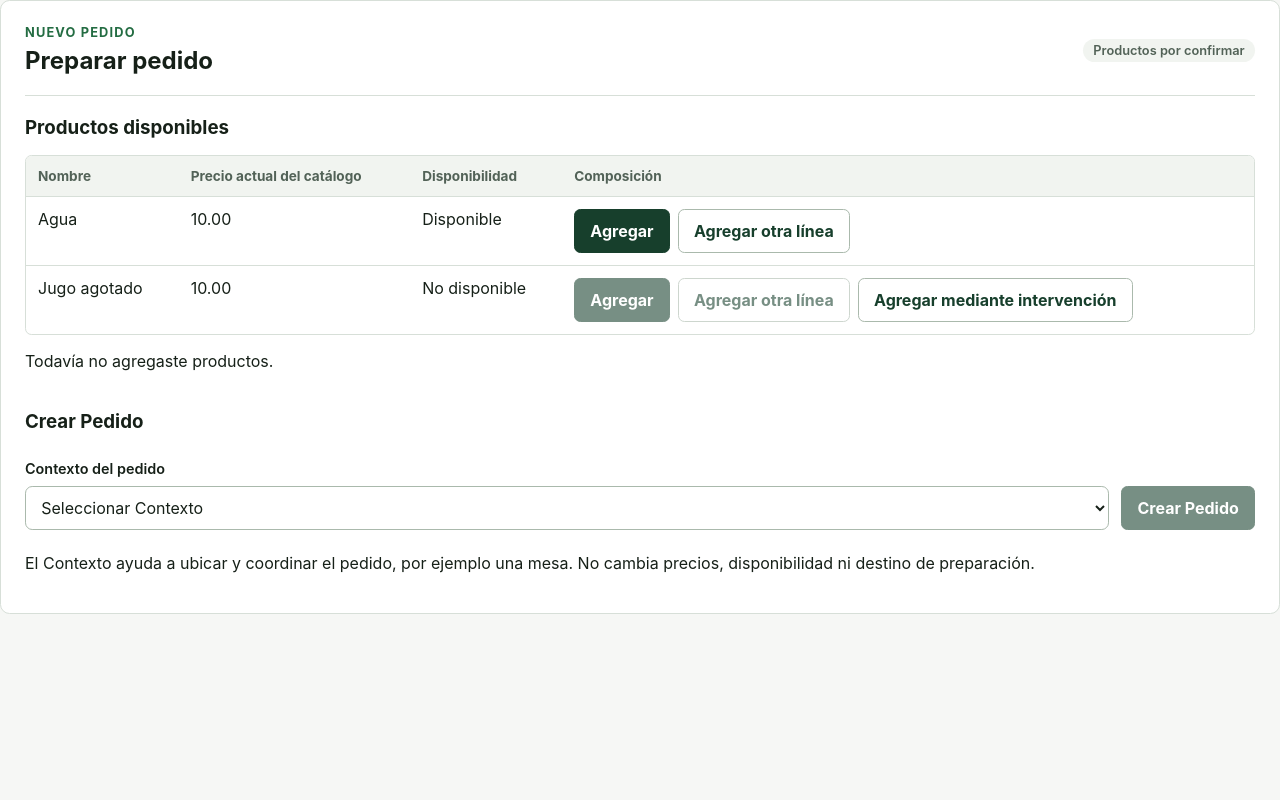
OrderWorkflow - Composición y Primera Confirmación › sends exceptional intent per line and keeps it after authority loss
Select "Mesa 7" in the dropdown labelled "Contexto del pedido" at (567, 508), box [25, 486, 1109, 530]
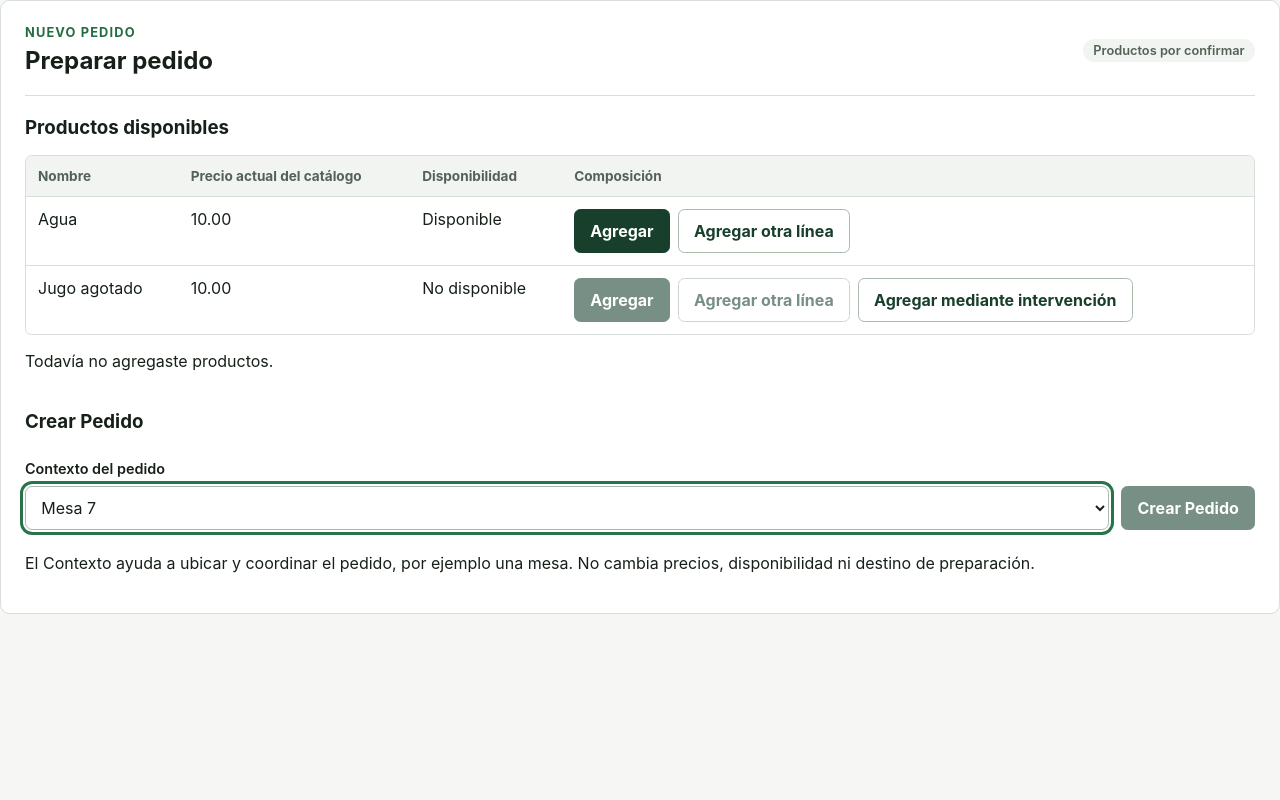
Click the button with aria-label "Agregar Agua a Preparar pedido".
click(622, 231)  # box [574, 209, 670, 253]
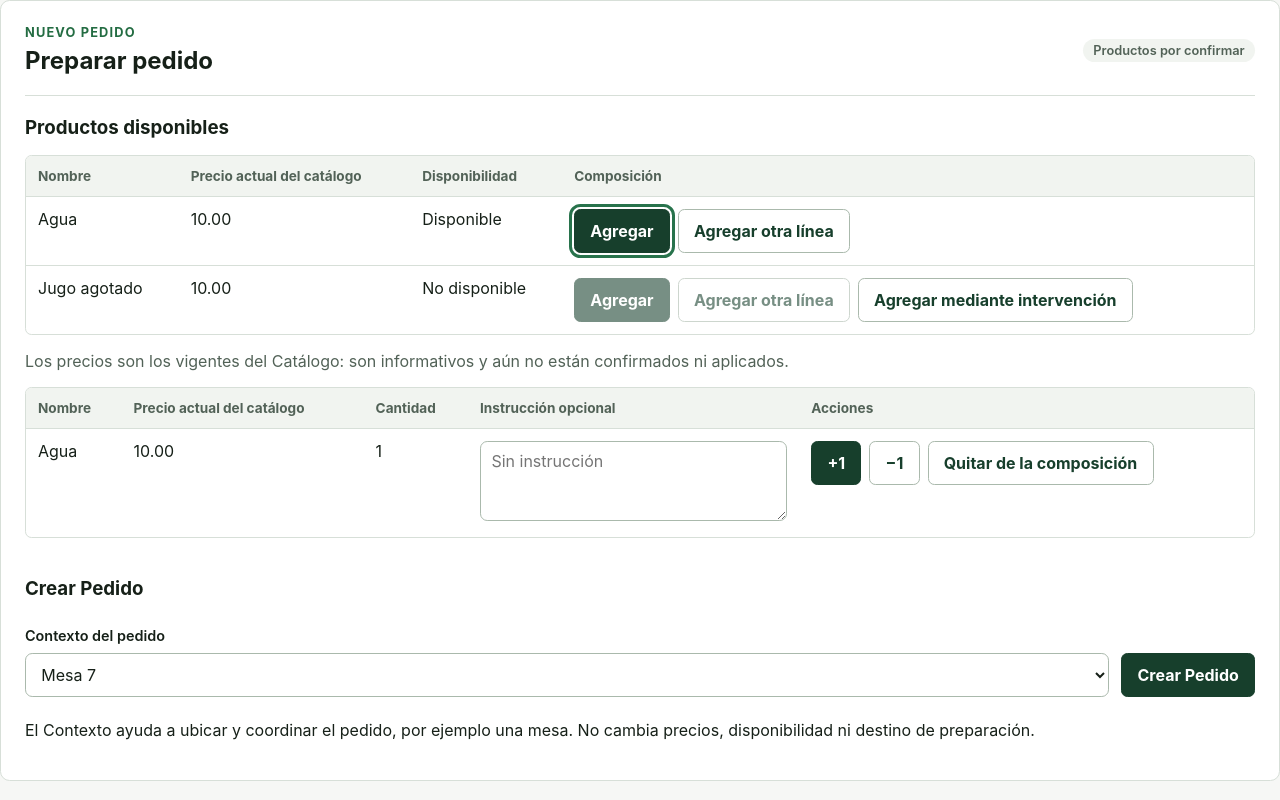
Click the button with aria-label "Agregar Jugo agotado mediante intervención a Preparar pedido".
click(995, 300)  # box [858, 278, 1133, 322]
(page scrolled)
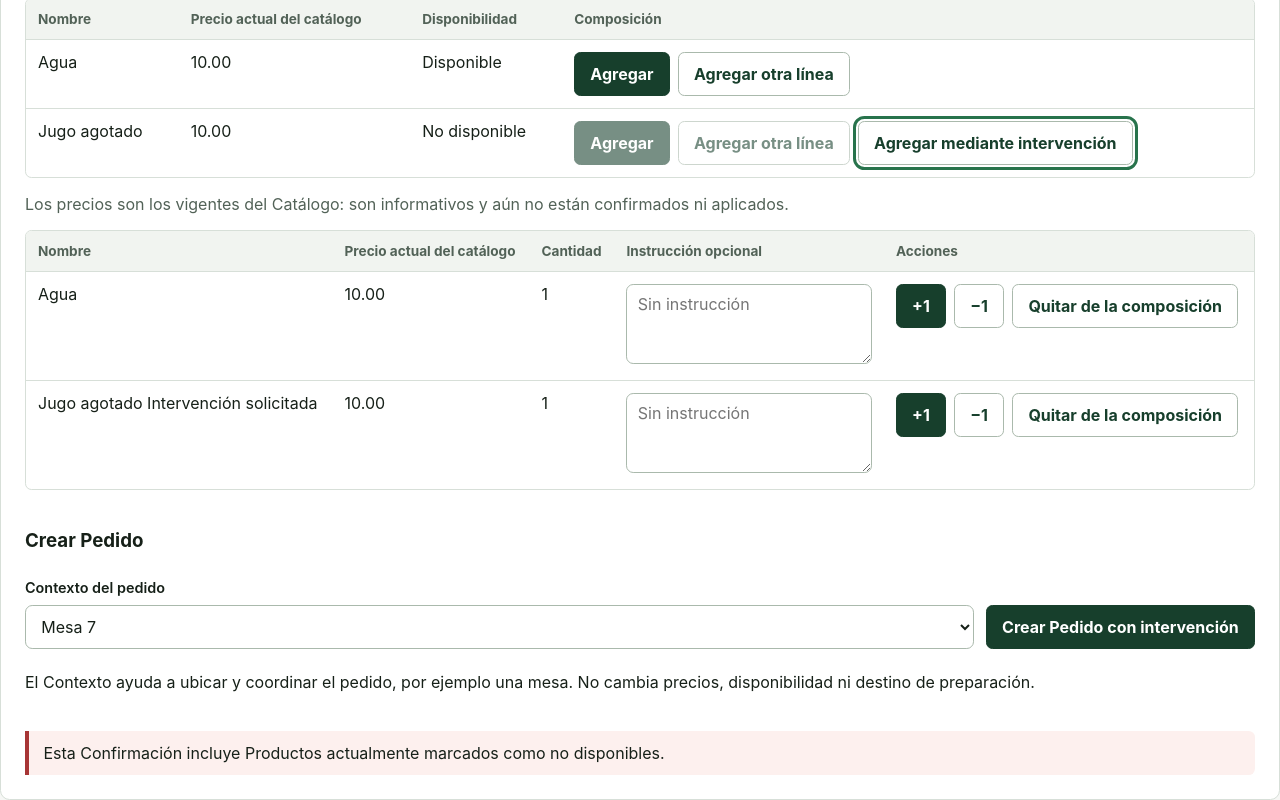
Click the button "Crear Pedido con intervención".
click(1120, 627)  # box [986, 605, 1255, 649]
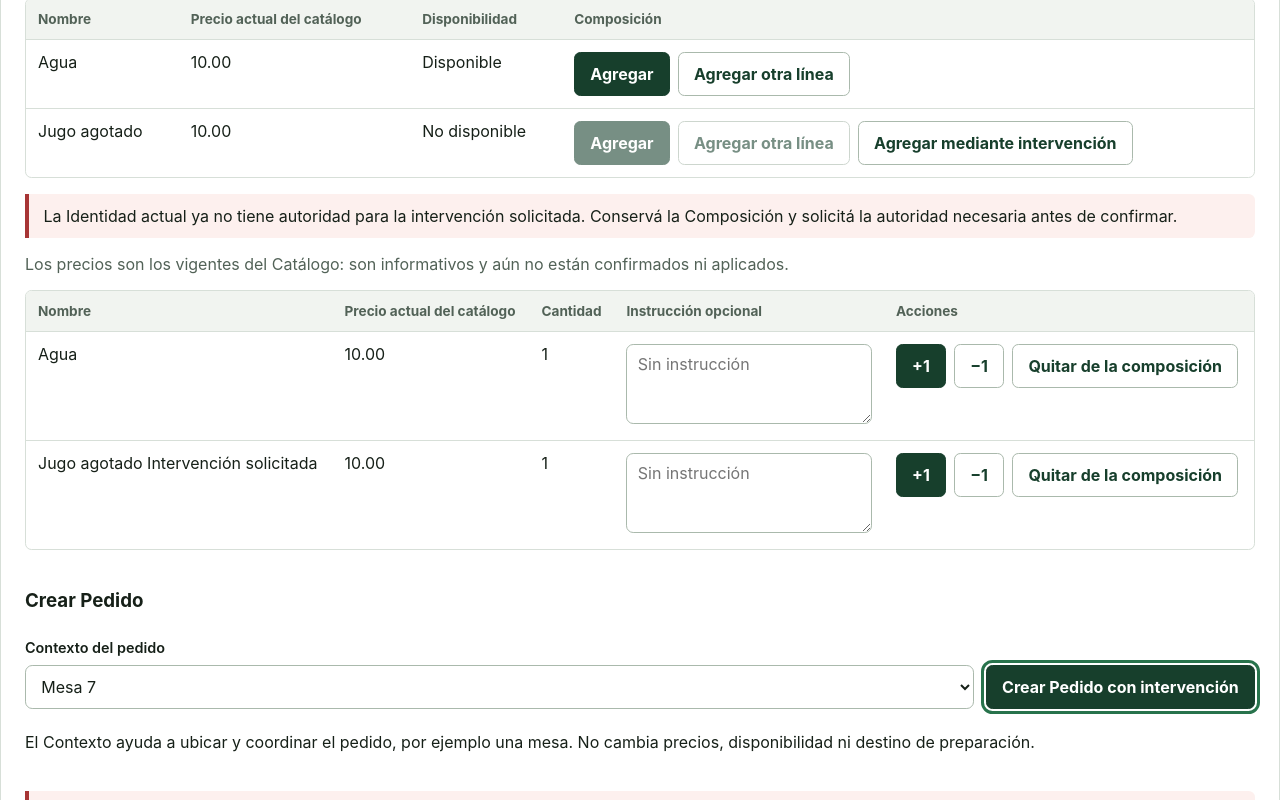
Now the text "Intervención solicitada" is shown, box [143, 453, 317, 473]
Now the button "Crear Pedido con intervención" is enabled, box [986, 665, 1255, 709]
Now the text "ya no tiene autoridad para la intervención solicitada" is shown, box [43, 206, 1177, 226]
